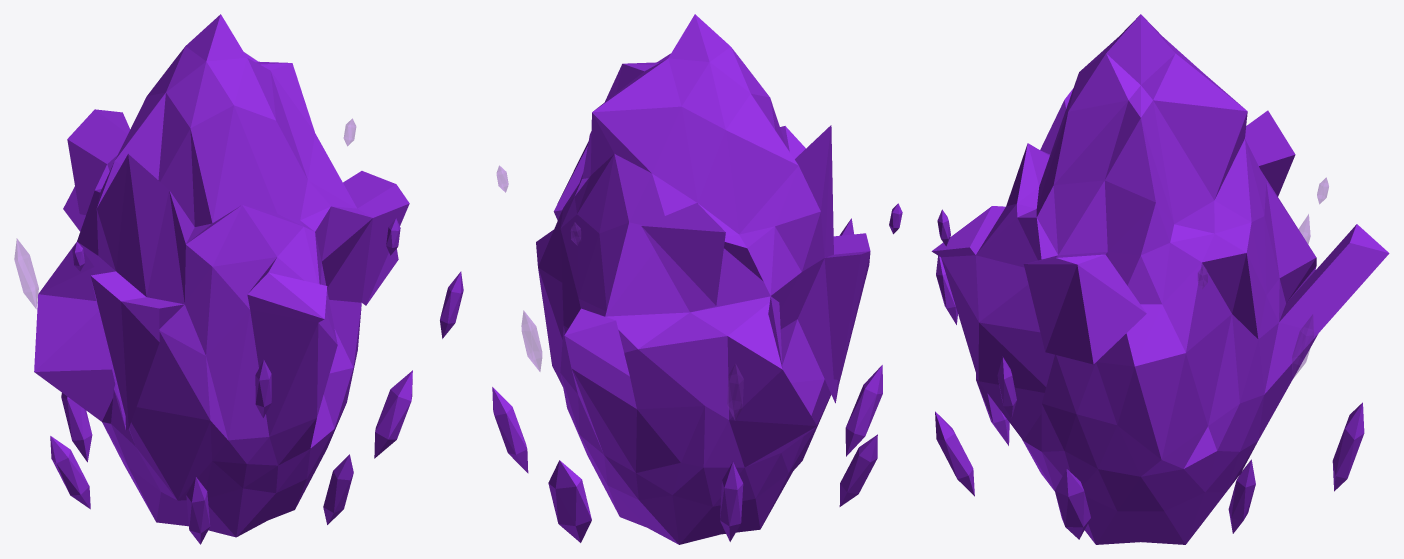
The model's file is Cristal.glb.
3 renders of one model, left to right at view 1: azimuth 30°, elevation 25°; view 2: azimuth 150°, elevation 25°; view 3: azimuth 270°, elevation 25°, orthographic. The views are drawn at different scales.
Visible parts, largest first — view 1: Icosphere, Icosphere.005, Icosphere.002, Icosphere.004, Icosphere.003, Icosphere.008, Icosphere.001, Icosphere.012, Icosphere.010; view 2: Icosphere, Icosphere.007, Icosphere.003, Icosphere.006, Icosphere.002, Icosphere.008, Icosphere.014, Icosphere.001; view 3: Icosphere, Icosphere.005, Icosphere.007, Icosphere.004, Icosphere.006, Icosphere.014, Icosphere.012, Icosphere.003, Icosphere.010.
Part boxes in pixels (box(x1,y1,x2,y2)): Icosphere: box(34, 14, 409, 537); Icosphere.005: box(374, 370, 412, 458); Icosphere.002: box(50, 436, 90, 509); Icosphere.004: box(323, 454, 353, 524); Icosphere.003: box(186, 477, 210, 544); Icosphere.008: box(61, 393, 92, 462); Icosphere.001: box(14, 239, 38, 308); Icosphere.012: box(440, 271, 463, 338); Icosphere.010: box(255, 360, 271, 417); Icosphere: box(536, 14, 870, 544); Icosphere.007: box(548, 460, 591, 542); Icosphere.003: box(845, 365, 882, 456); Icosphere.006: box(492, 387, 528, 473); Icosphere.002: box(839, 434, 877, 506); Icosphere.008: box(720, 462, 743, 541); Icosphere.014: box(521, 310, 541, 371); Icosphere.001: box(727, 363, 743, 420); Icosphere: box(931, 14, 1389, 544); Icosphere.005: box(1055, 469, 1090, 539); Icosphere.007: box(1332, 402, 1364, 491); Icosphere.004: box(935, 411, 974, 496); Icosphere.006: box(1228, 459, 1255, 533); Icosphere.014: box(1292, 314, 1313, 378); Icosphere.012: box(997, 357, 1016, 418); Icosphere.003: box(976, 373, 1009, 445); Icosphere.010: box(936, 255, 957, 324).
Size of the model in its own units: 2.86 by 3.83 by 3.15.
